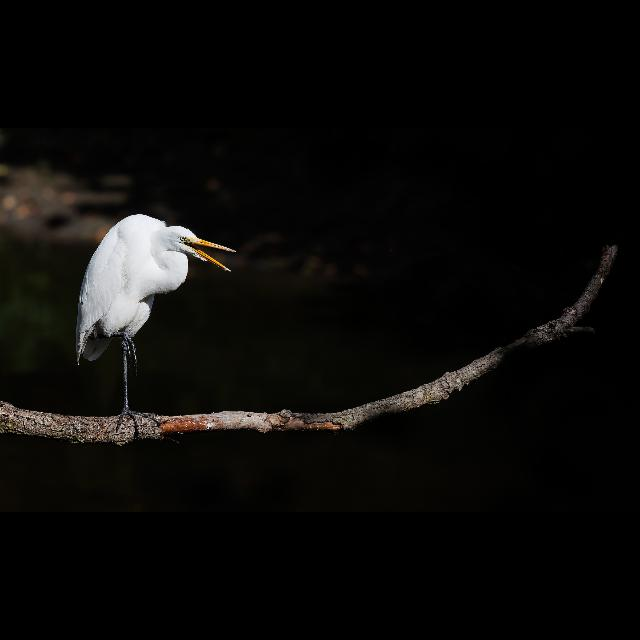egret: (74, 208, 246, 440)
